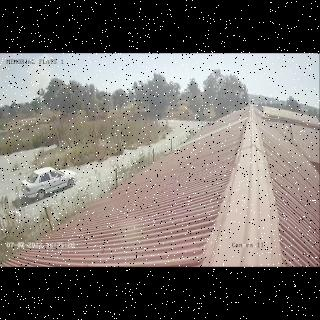car: (20, 167, 77, 200)
